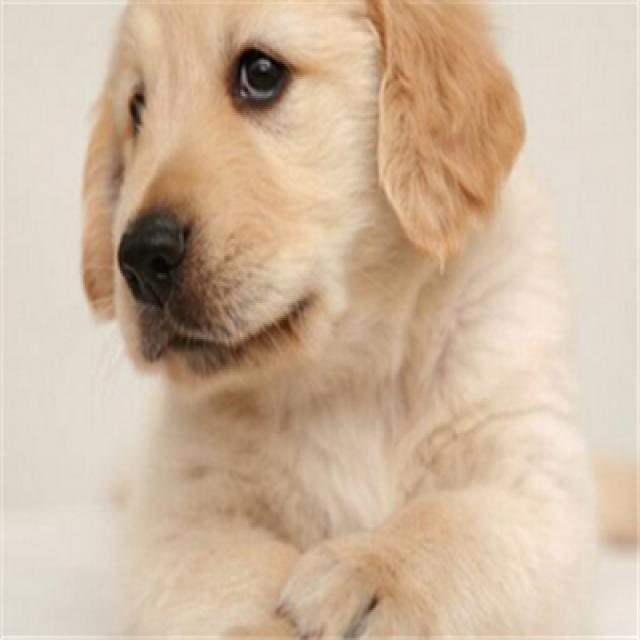eye: (228, 40, 298, 110)
